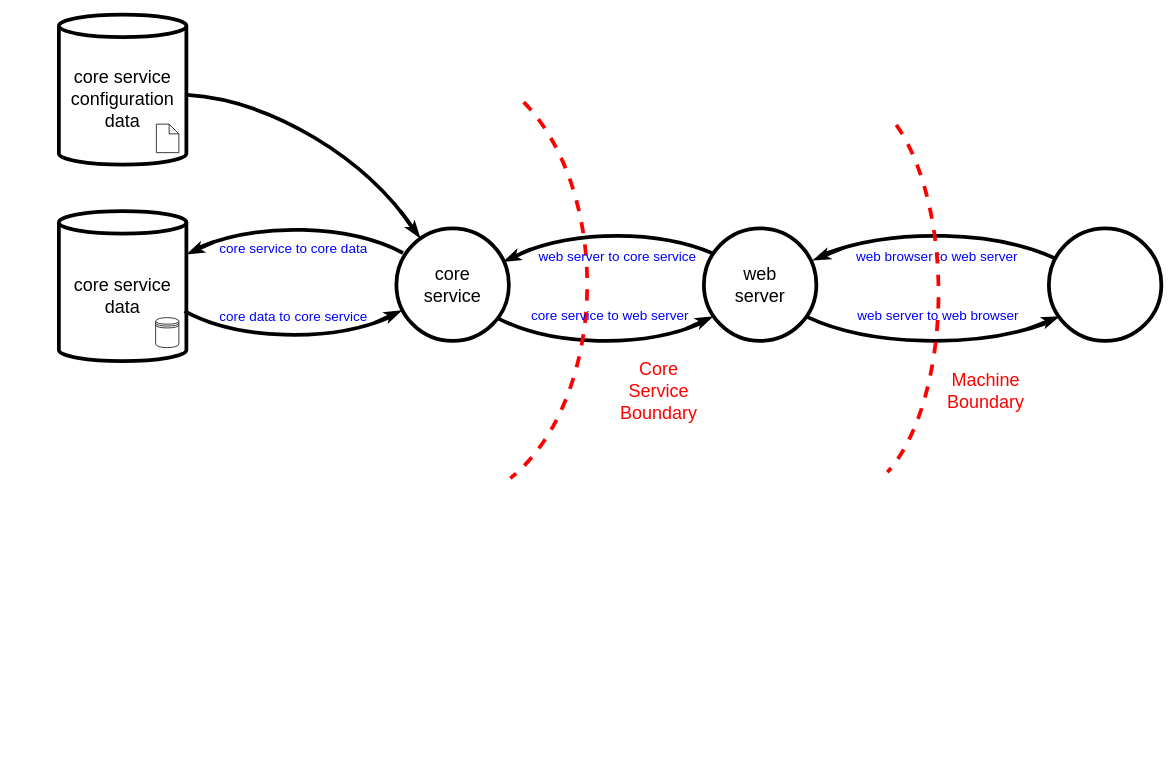
Some shapes in this 1176 by 781 pixel diagram are drawn without their labels. Each missing label, with the centre of its shape:
core configuration to core service: the point at 257,248
web browser: the point at 1105,284
